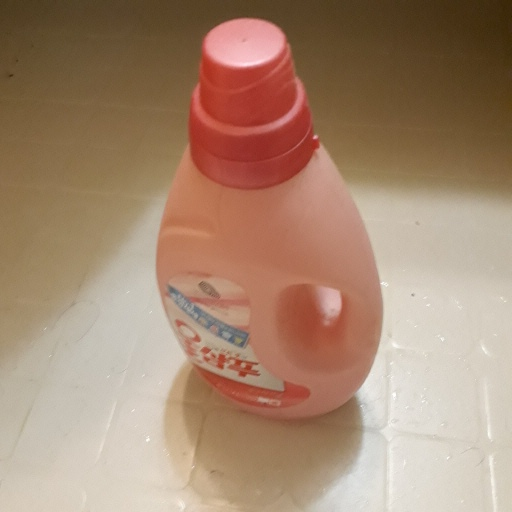Plastic_1: (155, 19, 385, 419)
